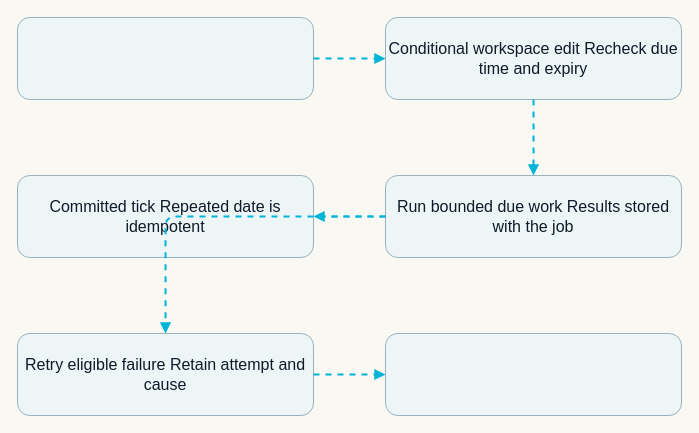
The diagram is 699 pixels wide and 433 high, and some of its shapes have lost their labels. Here are the shapes that lost their labels. From the top down, the centre of each, then its label:
At point 165,58: "Persisted due time Workspace + business date".
At point 533,374: "Dead-letter job Operator resolves and retries".
